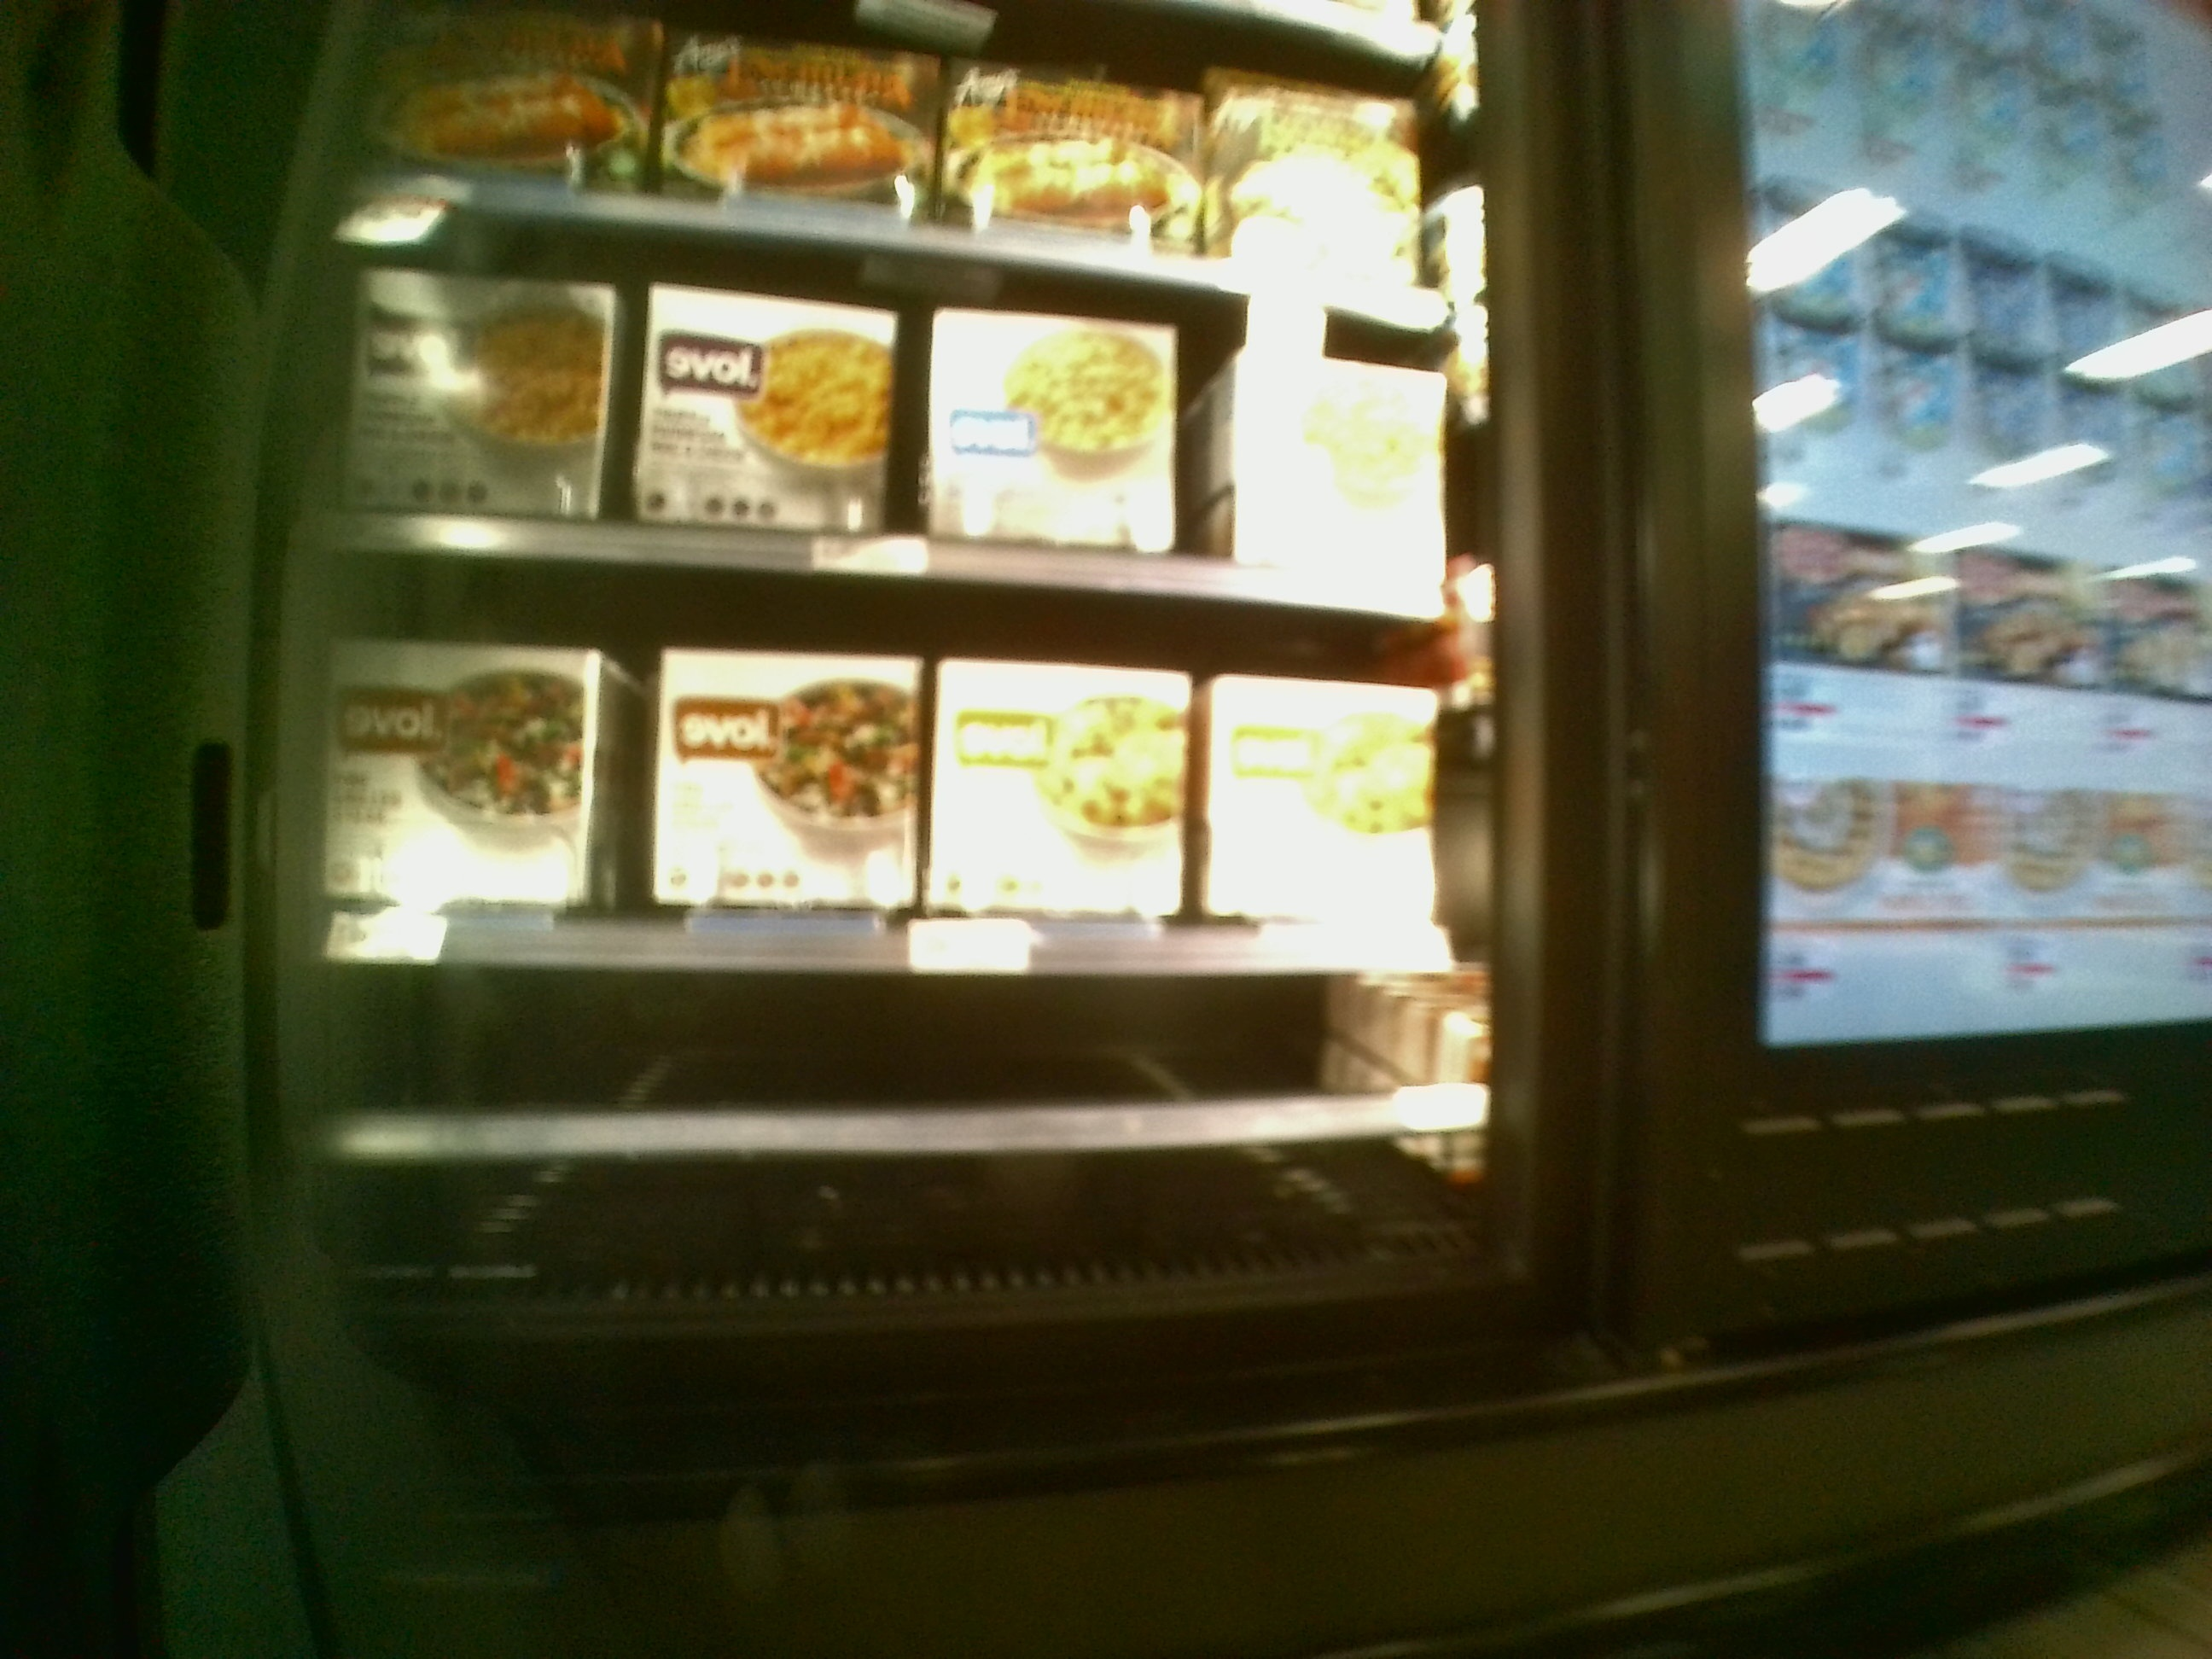shelf: (322, 599, 1472, 971), (329, 274, 1472, 606), (327, 964, 1468, 1260)
